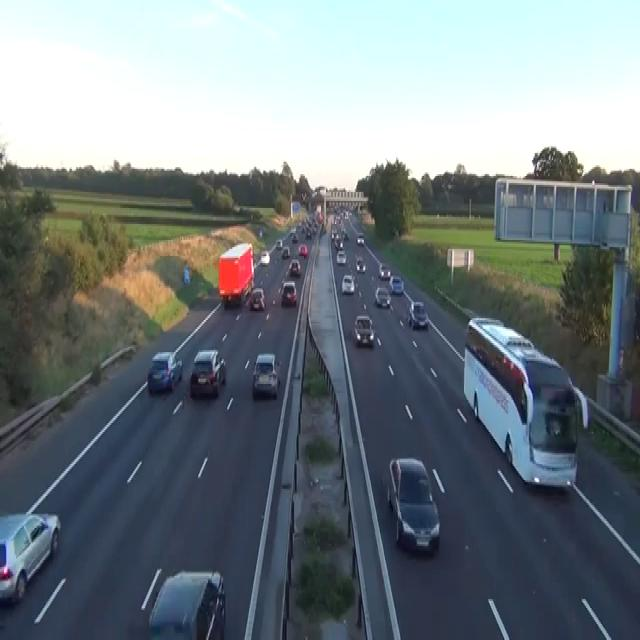Car: (280, 491, 367, 638), (0, 512, 61, 604), (148, 569, 226, 638), (387, 457, 440, 553), (189, 348, 226, 398), (147, 350, 183, 393), (251, 352, 281, 398), (353, 315, 374, 345), (408, 300, 428, 329), (280, 281, 297, 306), (249, 286, 265, 310), (374, 286, 391, 308), (389, 274, 404, 293), (341, 274, 355, 293), (289, 258, 301, 276), (378, 263, 391, 279), (355, 256, 366, 272), (260, 249, 270, 265), (298, 244, 308, 258), (336, 249, 346, 263), (183, 265, 190, 283), (334, 235, 343, 249), (281, 245, 290, 258), (331, 226, 338, 240), (356, 235, 364, 245), (276, 238, 283, 249), (342, 229, 348, 240), (317, 212, 323, 222), (292, 233, 298, 242), (305, 230, 311, 238), (290, 226, 296, 234), (259, 228, 262, 236)
Truck: (463, 315, 588, 489), (217, 242, 254, 308)
